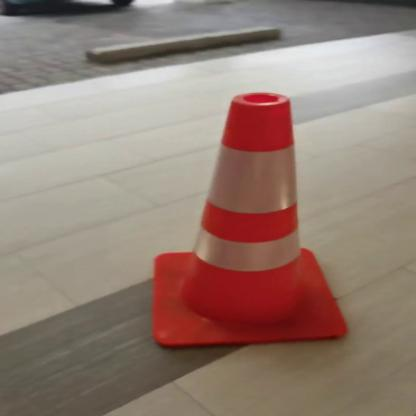cone: (122, 79, 363, 360)
